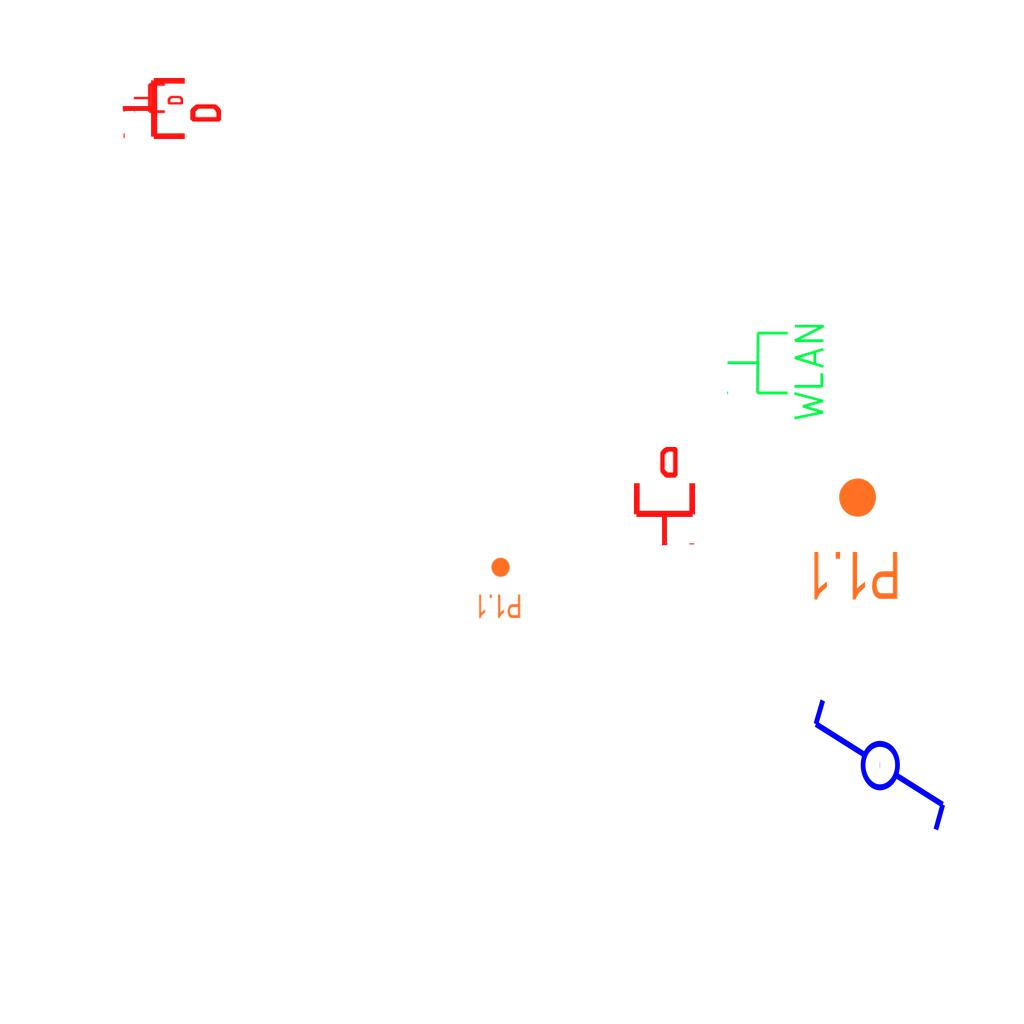Datenanschluss_einfach: (630, 447, 699, 547), (121, 74, 221, 143), (133, 81, 183, 115)
Downlight_LED_Einbauleuchten_Flur: (808, 475, 901, 603), (476, 556, 522, 620)
WLAN: (724, 320, 828, 425)
Wechselschalter: (806, 695, 950, 852)
